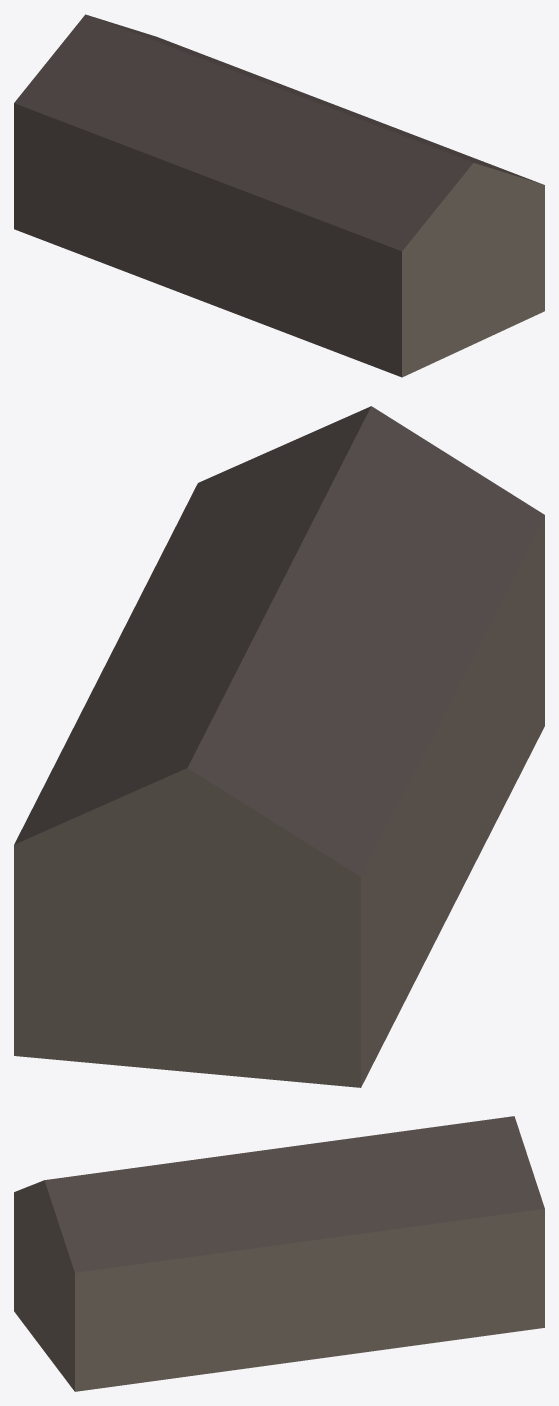
The picture shows the model from 3 angles, top to bottom: view 1: azimuth 30°, elevation 25°; view 2: azimuth 150°, elevation 25°; view 3: azimuth 270°, elevation 25°; orthographic projection. The views are drawn at different scales.
Visible parts, largest first — view 1: HP-w378107132; view 2: HP-w378107132; view 3: HP-w378107132.
Boxes of the visible parts, x1,y1,x2,y2 form: HP-w378107132: (14,14,544,377); HP-w378107132: (14,406,544,1087); HP-w378107132: (14,1116,544,1391).
Size of the model in its own units: 15.65 by 8.64 by 24.26.
